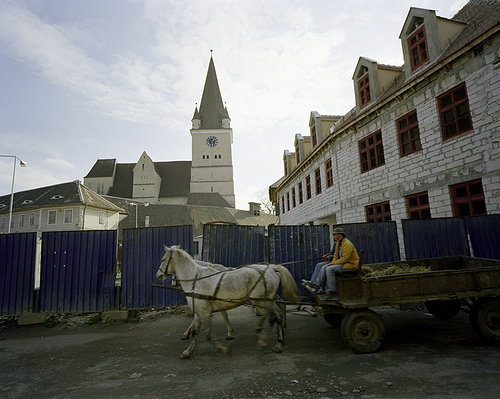horse: (156, 244, 304, 358)
